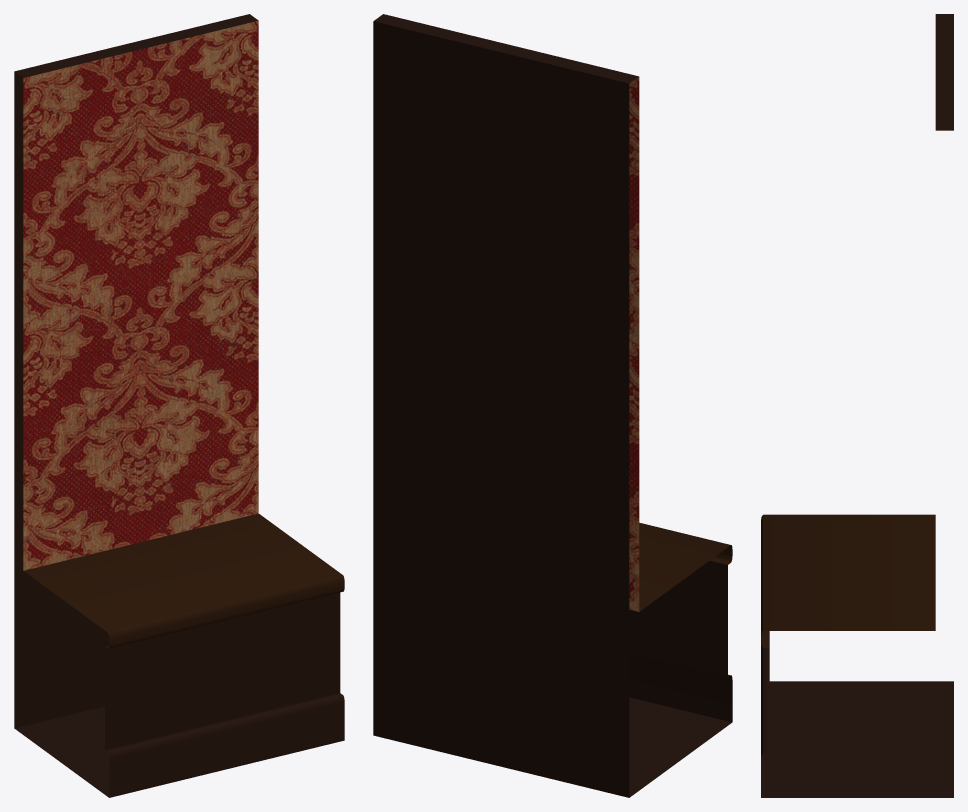
The model's file is Sm_single_muro_plano.fbx.
The picture shows the model from 3 angles, left to right: view 1: azimuth 30°, elevation 25°; view 2: azimuth 150°, elevation 25°; view 3: azimuth 270°, elevation 25°; orthographic projection. The views are drawn at different scales.
Parts seen in each view (by area): view 1: Object002, Object003; view 2: Object003, Object002; view 3: Object003.
Boxes of the visible parts, <box> form: Object002: <box>23,20,258,570</box>; Object003: <box>14,14,344,797</box>; Object003: <box>373,14,732,797</box>; Object002: <box>629,76,639,611</box>; Object003: <box>761,14,953,797</box>.
Bounding box in the file's own units: 118 × 315 × 82.48.
3 materials, 1 textured.
